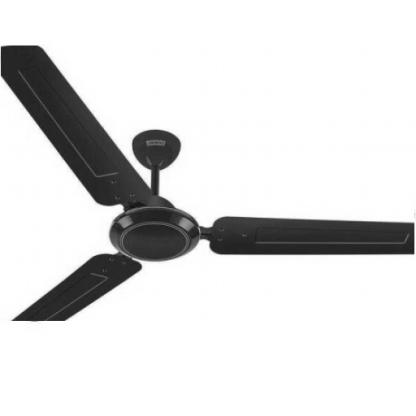ceiling-fan: (1, 46, 415, 322)
